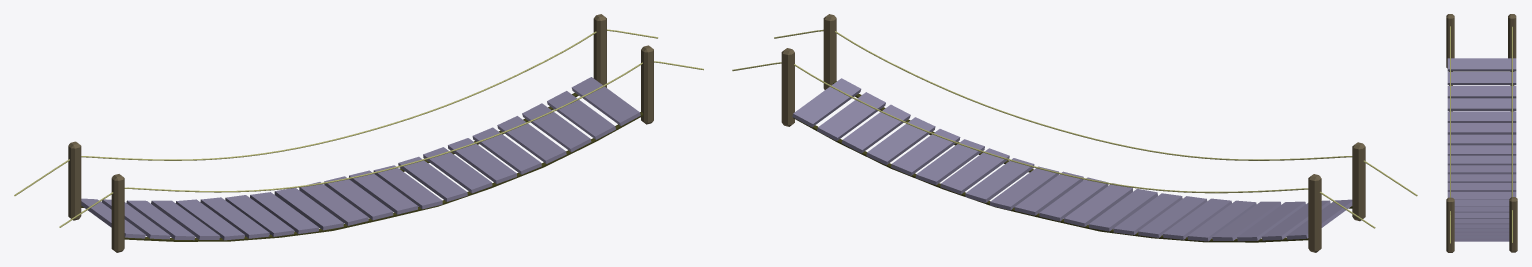
File: Bridge_normal.fbx
The picture shows the model from 3 angles, left to right: view 1: azimuth 30°, elevation 25°; view 2: azimuth 150°, elevation 25°; view 3: azimuth 270°, elevation 25°; orthographic projection. The views are drawn at different scales.
Parts seen in each view (by area): view 1: Bridge_normal; view 2: Bridge_normal; view 3: Bridge_normal.
Boxes of the visible parts, bbox=[...] form: Bridge_normal: bbox=[14, 14, 703, 252]; Bridge_normal: bbox=[732, 14, 1417, 252]; Bridge_normal: bbox=[1446, 14, 1517, 252].
Size of the model in its own units: 1647 by 267 by 223.
